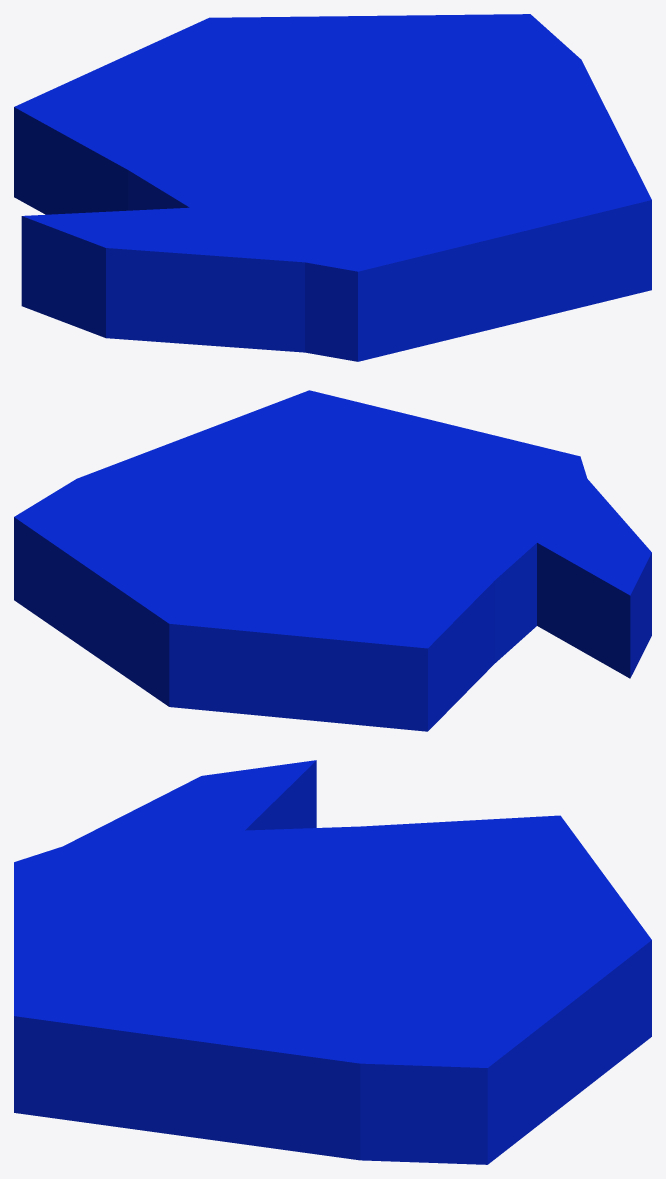
File: sticky_hand.glb
3 renders of one model, top to bottom at view 1: azimuth 30°, elevation 25°; view 2: azimuth 150°, elevation 25°; view 3: azimuth 270°, elevation 25°, orthographic. The views are drawn at different scales.
Parts seen in each view (by area): view 1: Cylinder; view 2: Cylinder; view 3: Cylinder.
Part boxes in pixels (bbox=[...]): Cylinder: bbox=[14, 14, 651, 361]; Cylinder: bbox=[14, 390, 651, 731]; Cylinder: bbox=[14, 760, 651, 1164].
Bounding box in the file's own units: 0.6825 × 0.1 × 0.5974.
